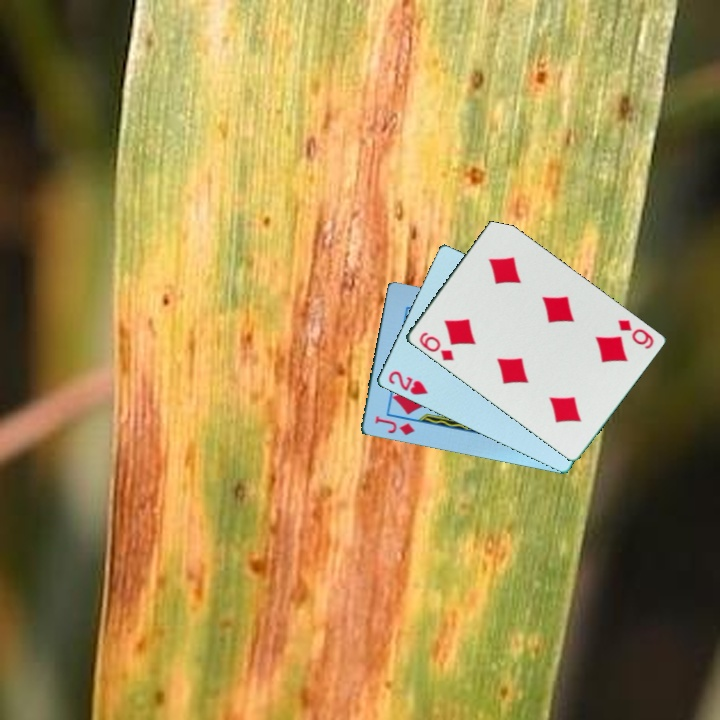2h: (384, 367, 430, 398)
6d: (613, 316, 656, 352), (415, 328, 456, 364)
Jd: (371, 412, 417, 439)
